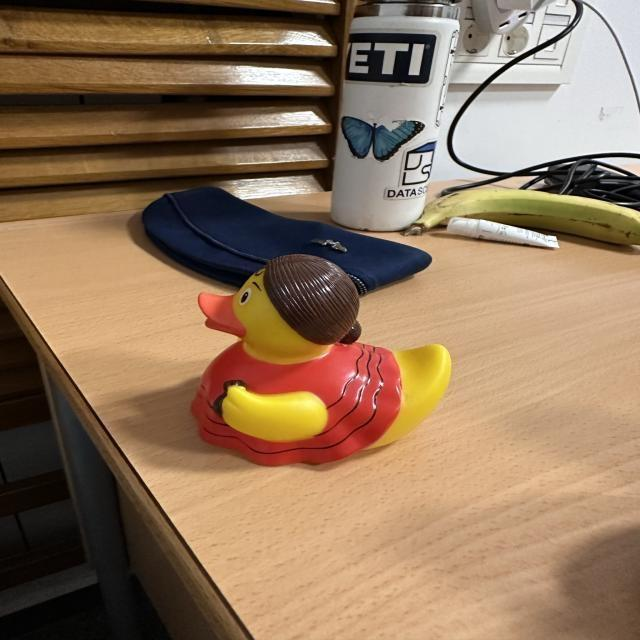rubber-duck: (191, 253, 449, 463)
